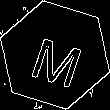M_N: (24, 24, 86, 86)
